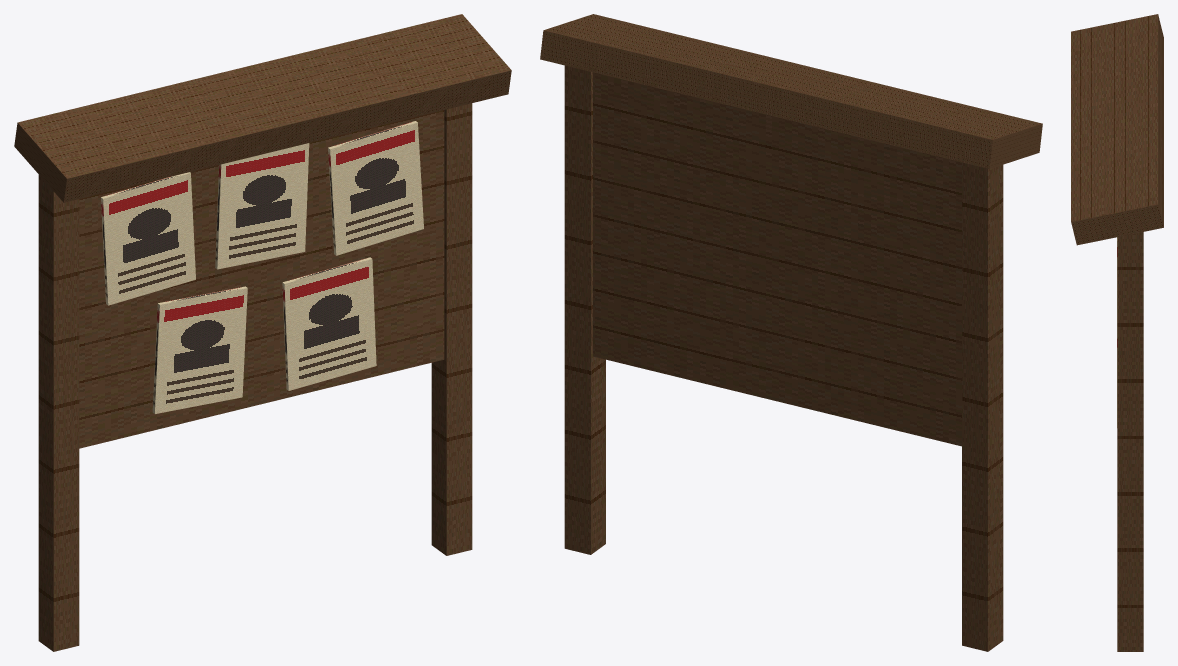
File: quadro_de_procurados.glb
3 views of the same model, side by side, from view 1: azimuth 30°, elevation 25°; view 2: azimuth 150°, elevation 25°; view 3: azimuth 270°, elevation 25° (orthographic). The views are drawn at different scales.
Parts seen in each view (by area): view 1: quadro_de_procurados; view 2: quadro_de_procurados; view 3: quadro_de_procurados.
Boxes of the visible parts, x1=… form: quadro_de_procurados: x1=14, y1=14, x2=511, y2=651; quadro_de_procurados: x1=540, y1=14, x2=1042, y2=651; quadro_de_procurados: x1=1071, y1=14, x2=1163, y2=651.
Size of the model in its own units: 1.72 by 1.91 by 0.3536.
1 material, 1 textured.
